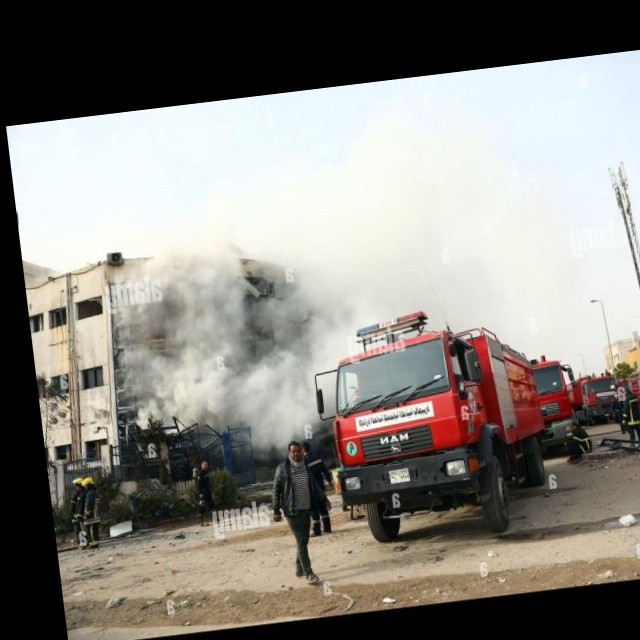Fire-truck: (307, 296, 559, 554), (569, 362, 636, 420)
person: (264, 437, 340, 587), (298, 437, 341, 538), (77, 476, 106, 549), (66, 476, 94, 548), (192, 460, 218, 527), (561, 417, 595, 465)
